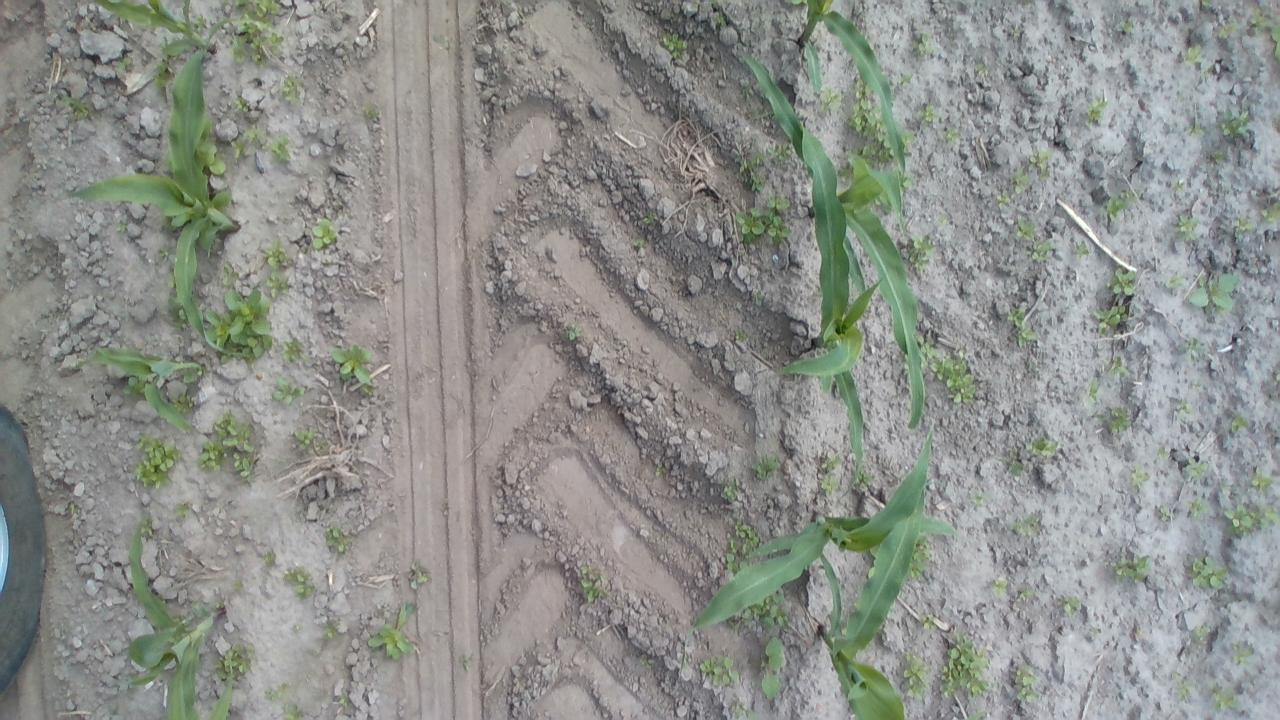Maize: (734, 34, 928, 428), (680, 420, 956, 671), (64, 18, 245, 358), (776, 122, 884, 502), (815, 491, 925, 720), (122, 507, 228, 720), (792, 0, 907, 176), (75, 347, 206, 436), (94, 0, 218, 57), (209, 651, 232, 720)
Weeds: (204, 290, 272, 362), (198, 408, 255, 486), (918, 332, 978, 404), (938, 627, 994, 700), (362, 600, 418, 658), (733, 193, 792, 248), (736, 140, 792, 193), (134, 430, 180, 490), (226, 22, 284, 66), (1188, 270, 1238, 320), (846, 74, 882, 140), (330, 342, 376, 388), (1222, 502, 1276, 538), (1182, 553, 1230, 591), (724, 518, 759, 570), (758, 636, 784, 704), (899, 651, 932, 704), (742, 594, 790, 630), (200, 120, 228, 174), (214, 643, 252, 681), (1110, 552, 1152, 585), (1102, 186, 1140, 222), (579, 563, 613, 603), (698, 654, 740, 686), (1011, 661, 1040, 707), (907, 232, 936, 278), (282, 563, 316, 601), (1206, 678, 1240, 714), (1008, 304, 1038, 344), (1220, 101, 1250, 139), (1090, 306, 1127, 336), (1092, 406, 1128, 436), (1006, 512, 1042, 541), (1025, 144, 1052, 182), (861, 133, 894, 164), (752, 452, 784, 483), (1103, 267, 1137, 296), (232, 1, 282, 20), (270, 378, 306, 404), (322, 523, 352, 553), (406, 556, 432, 590), (1086, 95, 1110, 129), (264, 270, 292, 299), (660, 32, 688, 61), (914, 536, 932, 581), (1249, 464, 1275, 495), (1170, 671, 1196, 702), (1023, 436, 1058, 459), (312, 218, 337, 250), (60, 94, 93, 118), (1172, 214, 1198, 244), (998, 448, 1024, 477), (269, 132, 294, 162), (1186, 494, 1214, 520), (1177, 336, 1203, 364), (819, 472, 845, 500), (906, 32, 934, 57), (1183, 454, 1209, 480), (264, 238, 288, 266), (1129, 463, 1150, 494), (1056, 593, 1082, 618), (1231, 212, 1254, 240), (167, 298, 186, 331), (1227, 641, 1253, 665), (280, 75, 303, 102), (150, 56, 170, 86), (1226, 410, 1250, 435), (1010, 166, 1030, 195), (1028, 239, 1052, 263), (1106, 354, 1128, 380), (820, 86, 842, 112), (1248, 7, 1268, 35), (918, 103, 942, 126), (1182, 43, 1204, 68), (282, 338, 304, 362), (1084, 375, 1102, 404), (295, 426, 315, 452), (171, 393, 196, 413), (322, 618, 342, 642), (123, 376, 147, 396), (280, 703, 308, 720), (221, 261, 239, 287), (1260, 200, 1280, 223), (1218, 22, 1240, 42), (1016, 218, 1034, 242), (1270, 18, 1280, 60), (720, 479, 740, 500), (264, 682, 288, 699), (992, 575, 1009, 599), (712, 0, 727, 27), (856, 469, 875, 490), (733, 702, 755, 720), (876, 194, 894, 216), (228, 139, 248, 158), (968, 490, 988, 509), (1163, 271, 1185, 288), (1174, 396, 1190, 419), (942, 126, 964, 142), (172, 502, 191, 520), (1071, 240, 1089, 258), (566, 322, 582, 342), (234, 94, 250, 114), (190, 602, 210, 618), (996, 190, 1012, 210), (143, 513, 156, 537), (264, 547, 278, 569), (336, 689, 352, 708), (1194, 625, 1210, 644), (820, 454, 843, 467), (1188, 123, 1205, 140), (1117, 20, 1135, 36), (838, 164, 854, 182), (243, 126, 260, 142), (1156, 506, 1172, 523), (920, 613, 935, 630), (904, 129, 918, 147), (1020, 584, 1034, 602), (972, 63, 991, 76), (1156, 445, 1172, 460), (654, 461, 669, 477), (458, 652, 472, 669), (194, 14, 208, 30), (1200, 65, 1216, 79), (898, 72, 914, 86), (166, 276, 178, 294), (1211, 150, 1225, 165), (939, 214, 953, 229), (633, 236, 647, 250), (364, 106, 378, 120), (643, 212, 656, 227), (158, 249, 171, 263), (1010, 24, 1023, 38), (1090, 625, 1104, 638), (1174, 179, 1186, 194), (640, 652, 651, 668), (118, 56, 132, 68), (734, 328, 746, 342), (742, 85, 754, 99), (117, 217, 127, 233), (902, 178, 912, 194), (314, 441, 328, 452), (754, 290, 764, 305), (1200, 0, 1214, 10), (68, 500, 77, 515), (214, 599, 227, 609), (362, 386, 375, 396), (1191, 379, 1204, 389), (234, 580, 243, 591), (292, 624, 299, 634)
